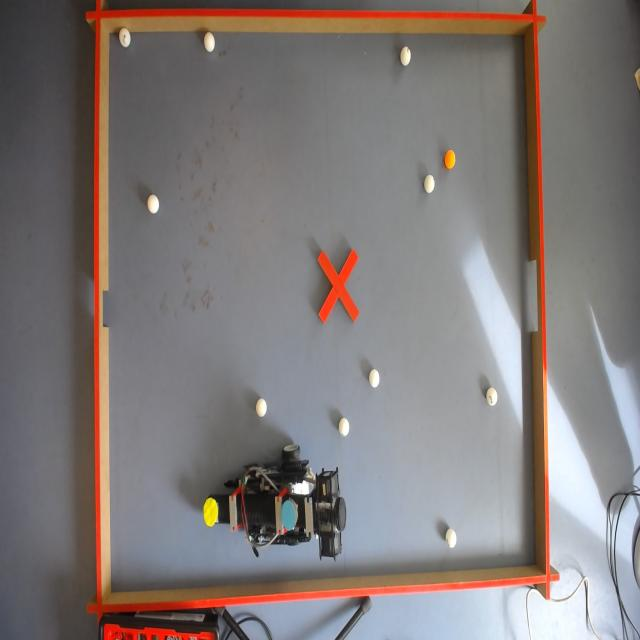orange: (444, 149, 456, 170)
robot: (202, 452, 352, 564)
robot-front: (201, 496, 219, 524)
robot-rear: (278, 491, 300, 537)
white: (202, 34, 216, 55), (338, 416, 352, 436), (256, 398, 270, 418), (368, 368, 381, 389), (118, 28, 132, 47), (446, 529, 458, 551), (146, 194, 159, 213), (401, 46, 413, 65), (424, 174, 436, 192), (486, 390, 498, 408)
